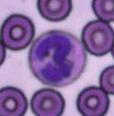N: (28, 29, 84, 86)
